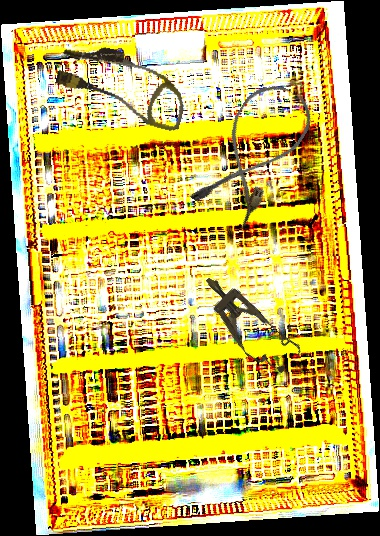Cannula: (186, 73, 321, 232), (50, 37, 195, 133)
Speculum: (190, 263, 306, 382)
